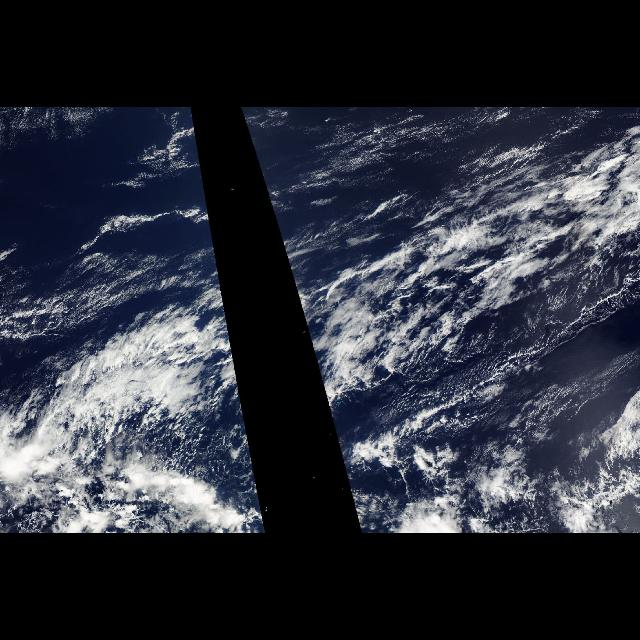Fish: (276, 225, 640, 419), (56, 225, 246, 419)
Sugar: (259, 112, 479, 220)
